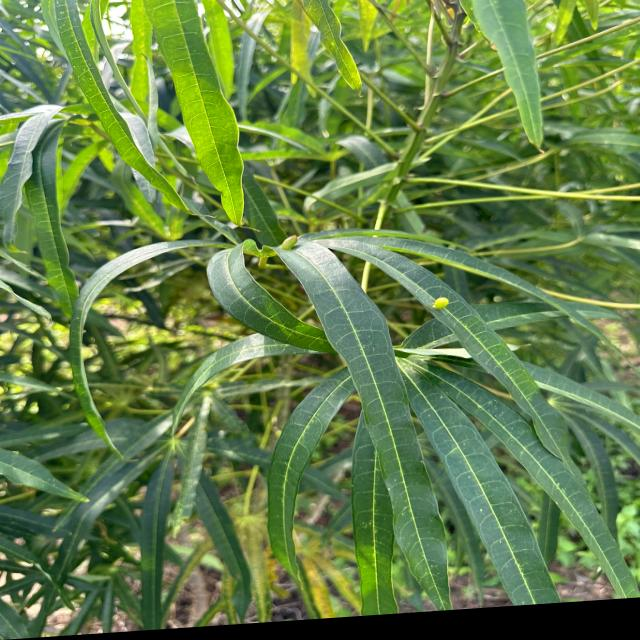Mosca: (271, 230, 308, 260), (424, 292, 457, 321)
